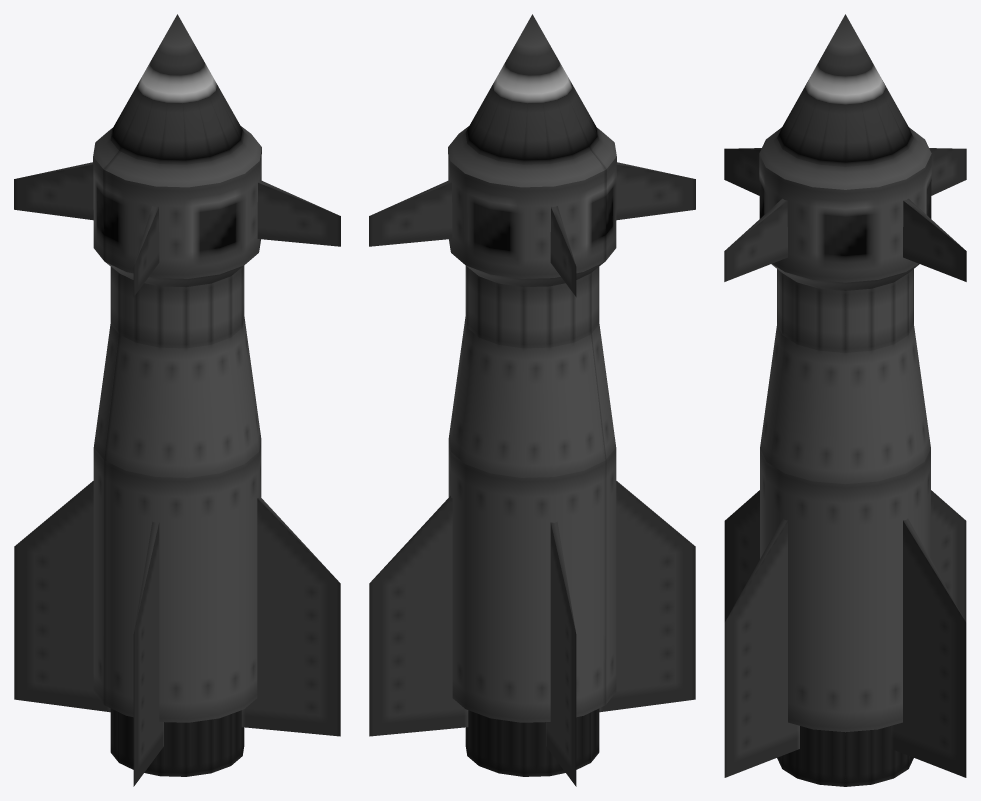
Rendered from missile_cluster_strong.obj.
3 renders of one model, left to right at view 1: azimuth 30°, elevation 25°; view 2: azimuth 150°, elevation 25°; view 3: azimuth 270°, elevation 25°, orthographic.
Parts seen in each view (by area): view 1: missile_cluster_strong; view 2: missile_cluster_strong; view 3: missile_cluster_strong.
Part boxes in pixels (x1,y1,x2,y2): missile_cluster_strong: (14,14,340,786); missile_cluster_strong: (369,14,695,786); missile_cluster_strong: (724,14,966,786).
Size of the model in its own units: 1.77 by 6 by 1.77.
